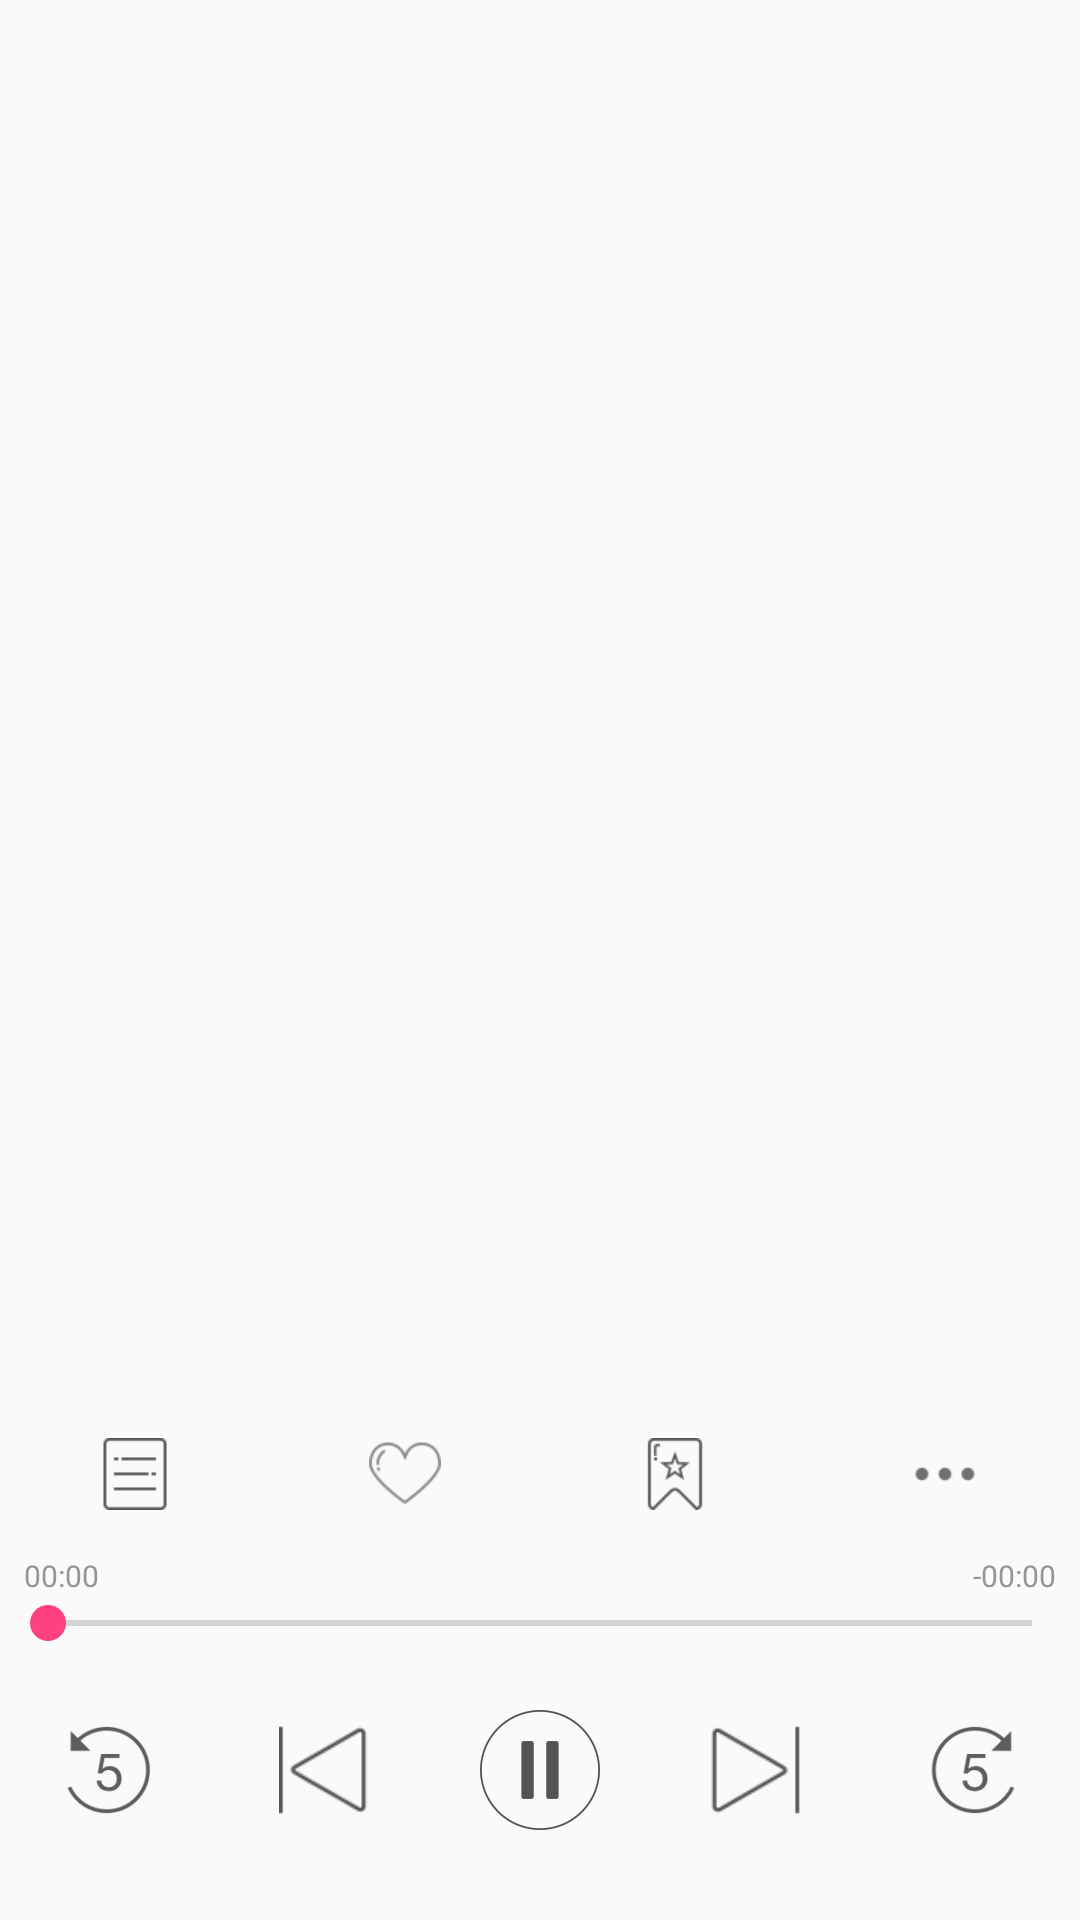

Locate icon controls on the screen. Image size 1080*1920, boxes as (x1=x1, y1=y1, x2=x2, y2=y2).
collect: (x1=647, y1=1438, x2=703, y2=1510), (x1=369, y1=1442, x2=441, y2=1504)
last: (x1=279, y1=1726, x2=367, y2=1814)
list: (x1=103, y1=1438, x2=167, y2=1510)
more: (x1=915, y1=1467, x2=975, y2=1481)
next: (x1=711, y1=1726, x2=800, y2=1814)
next 5s: (x1=931, y1=1727, x2=1014, y2=1813)
play: (x1=480, y1=1710, x2=600, y2=1830)
pre 5s: (x1=67, y1=1727, x2=150, y2=1813)
